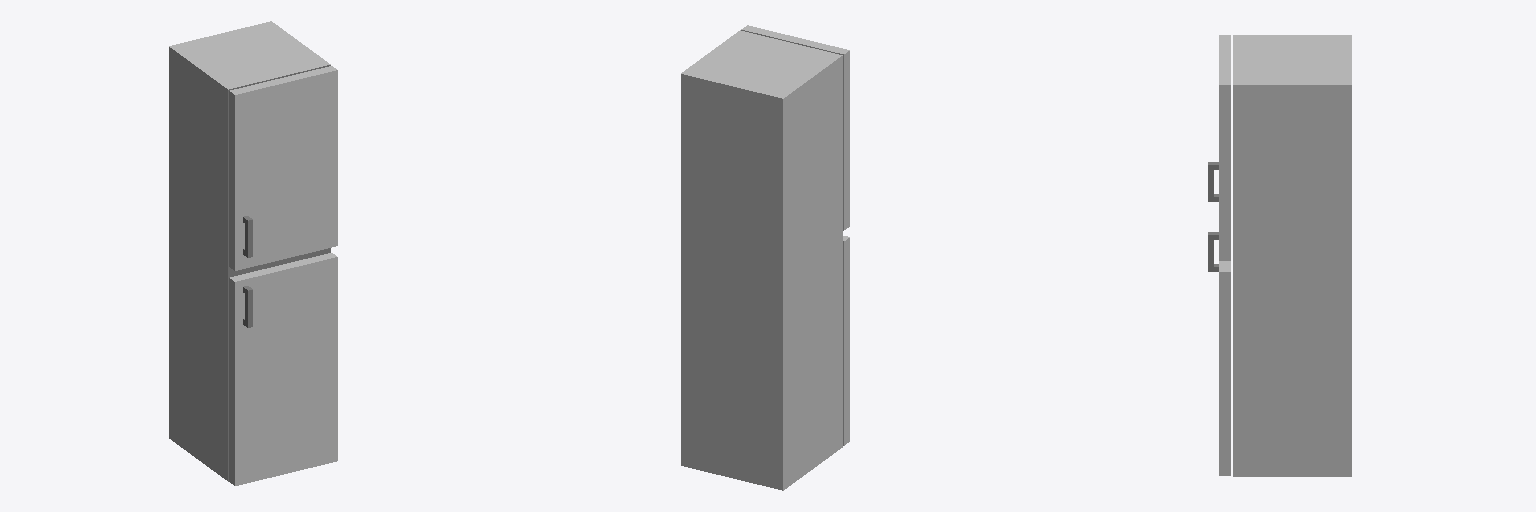
Rendered from frigorifero_Scene.obj.
The picture shows the model from 3 angles: view 1: azimuth 30°, elevation 25°; view 2: azimuth 150°, elevation 25°; view 3: azimuth 270°, elevation 25°; orthographic projection.
Parts seen in each view (by area): view 1: Cube_Cube_Material, Cube_Cube_Aluminum; view 2: Cube_Cube_Material; view 3: Cube_Cube_Material, Cube_Cube_Aluminum.
Boxes of the visible parts, x1=… form: Cube_Cube_Material: x1=169, y1=21, x2=337, y2=485; Cube_Cube_Aluminum: x1=228, y1=65, x2=330, y2=481; Cube_Cube_Material: x1=681, y1=25, x2=849, y2=490; Cube_Cube_Material: x1=1219, y1=35, x2=1351, y2=476; Cube_Cube_Aluminum: x1=1208, y1=162, x2=1218, y2=271.
Size of the model in its own units: 0.4425 by 1.61 by 0.5349.